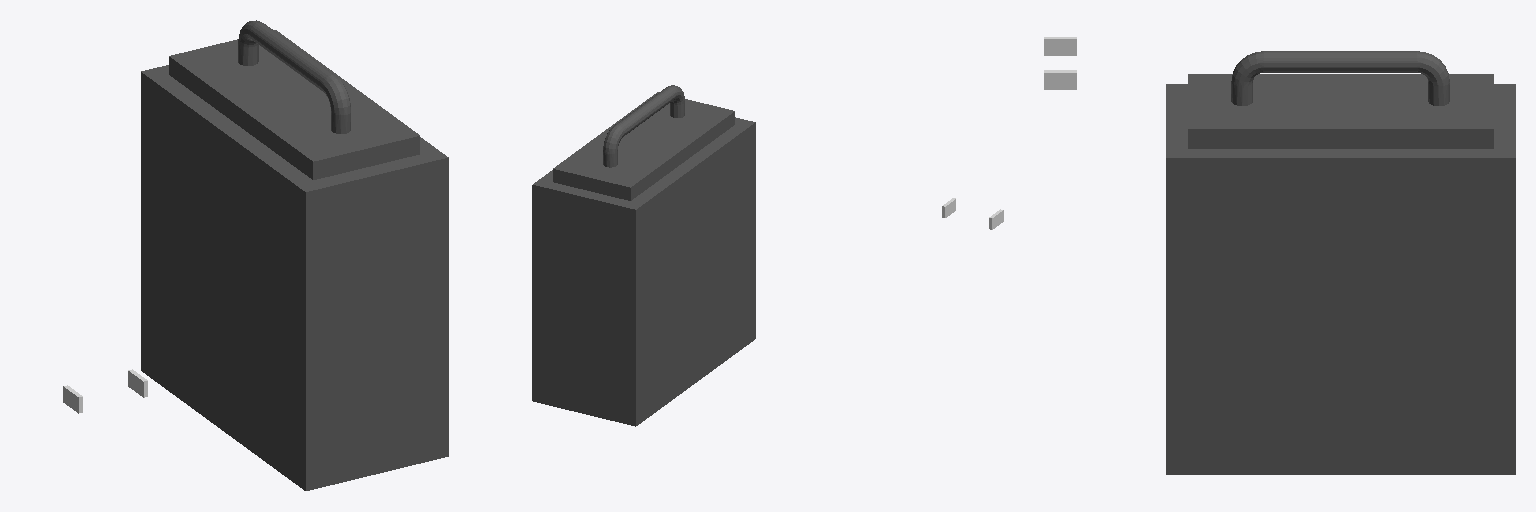
robot.urdf — ur3_robotiq85:
<?xml version="1.0" encoding="utf-8"?>
<robot 
  name="ur3_robotiq85">

  <!-- ==================== UR3 COBOT ==================== -->
  <link name="world" />
  <joint name="world_joint" type="fixed">
    <parent link="world" />
    <child link = "base_link" />
    <origin xyz="0.0 0.0 0.0" rpy="3.1415926536 3.1415926536 0.0" />
  </joint>
  
  <link
    name="base_link">
    <inertial>
      <origin
        xyz="3.8372E-05 -0.00080955 0.04622"
        rpy="0 0 0" />
      <mass
        value="0.61578" />
      <inertia
        ixx="0.00076129"
        ixy="2.9387E-07"
        ixz="3.4791E-07"
        iyy="0.00077457"
        iyz="-3.4742E-06"
        izz="0.0010029" />
    </inertial>
    <visual>
      <origin
        xyz="0 0 0"
        rpy="0 0 0" />
      <geometry>
        <mesh
          filename="meshes/base_link.STL" />
      </geometry>
      <material
        name="Grey">
        <color
          rgba="0.4 0.4 0.4 1.0"/>
		<texture
          filename="textures/0.png" />
      </material>
    </visual>
    <collision>
      <origin
        xyz="0 0 0"
        rpy="0 0 0" />
      <geometry>
        <mesh
          filename="meshes/base_link.STL" />
      </geometry>
    </collision>
  </link>
  <link
    name="shoulder_link">
    <inertial>
      <origin
        xyz="6.6134E-06 0.0072751 -0.01157"
        rpy="0 0 0" />
      <mass
        value="0.75496" />
      <inertia
        ixx="0.0010673"
        ixy="-1.7198E-07"
        ixz="1.2409E-07"
        iyy="0.00098991"
        iyz="-0.00013061"
        izz="0.00090487" />
    </inertial>
    <visual>
      <origin
        xyz="0 0 0"
        rpy="0 0 0" />
      <geometry>
        <mesh
          filename="meshes/shoulder_link.STL" />
      </geometry>
      <material
        name="Orange">
        <color
          rgba="1.0 0.423529411765 0.0392156862745 1.0" />
		<texture
          filename="textures/1.png" />
      </material>
    </visual>
    <collision>
      <origin
        xyz="0 0 0"
        rpy="0 0 0" />
      <geometry>
        <mesh
          filename="meshes/shoulder_link.STL" />
      </geometry>
    </collision>
  </link>
  <joint
    name="shoulder_pan_joint"
    type="revolute">
    <origin
      xyz="0 0 0.1519"
      rpy="0 0 0" />
    <parent
      link="base_link" />
    <child
      link="shoulder_link" />
    <axis
      xyz="0 0 1" />
    <limit
      lower="-3.14"
      upper="3.14"
      effort="150"
      velocity="1.57" />
  </joint>
  <link
    name="upper_arm_link">
    <inertial>
      <origin
        xyz="-2.7508E-06 -0.0032541 0.10568"
        rpy="0 0 0" />
      <mass
        value="1.8002" />
      <inertia
        ixx="0.0026472"
        ixy="-1.2054E-07"
        ixz="1.7542E-07"
        iyy="0.0025148"
        iyz="-8.0826E-05"
        izz="0.0016697" />
    </inertial>
    <visual>
      <origin
        xyz="0 0 0"
        rpy="0 0 0" />
      <geometry>
        <mesh
          filename="meshes/upper_arm_link.STL" />
      </geometry>
      <material
        name="Orange">
        <color
          rgba="1.0 0.423529411765 0.0392156862745 1.0" />
		<texture
          filename="textures/2.png" />
      </material>
    </visual>
    <collision>
      <origin
        xyz="0 0 0"
        rpy="0 0 0" />
      <geometry>
        <mesh
          filename="meshes/upper_arm_link.STL" />
      </geometry>
    </collision>
  </link>
  <joint
    name="shoulder_lift_join"
    type="revolute">
    <origin
      xyz="0 0.11985 0"
      rpy="0 1.5707963 0" />
    <parent
      link="shoulder_link" />
    <child
      link="upper_arm_link" />
    <axis
      xyz="0 1 0" />
    <limit
      lower="-3.14"
      upper="3.14"
      effort="150"
      velocity="1.57" />
  </joint>
  <link
    name="forearm_link">
    <inertial>
      <origin
        xyz="1.86130767464698E-06 0.0050504102156036 0.111203258131293"
        rpy="0 0 0" />
      <mass
        value="0.962327239849504" />
      <inertia
        ixx="0.0010727233594452"
        ixy="1.86933270066241E-09"
        ixz="-6.59035926251097E-10"
        iyy="0.00101484199720974"
        iyz="4.61391602068538E-05"
        izz="0.000542735149271365" />
    </inertial>
    <visual>
      <origin
        xyz="0 0 0"
        rpy="0 0 0" />
      <geometry>
        <mesh
          filename="meshes/forearm_link.STL" />
      </geometry>
      <material
        name="Orange">
        <color
          rgba="1.0 0.423529411765 0.0392156862745 1.0" />
		<texture
          filename="textures/3.png" />
      </material>
    </visual>
    <collision>
      <origin
        xyz="0 0 0"
        rpy="0 0 0" />
      <geometry>
        <mesh
          filename="meshes/forearm_link.STL" />
      </geometry>
    </collision>
  </link>
  <joint
    name="elbow_joint"
    type="revolute">
    <origin
      xyz="0 -0.093211 0.24365"
      rpy="0 0 0" />
    <parent
      link="upper_arm_link" />
    <child
      link="forearm_link" />
    <axis
      xyz="0 1 0" />
    <limit
      lower="-3.14"
      upper="3.14"
      effort="150"
      velocity="1.57" />
  </joint>
  <link
    name="wrist_1_link">
    <inertial>
      <origin
        xyz="-5.7002E-06 0.081177 -0.0007955"
        rpy="0 0 0" />
      <mass
        value="0.32531" />
      <inertia
        ixx="0.00022623"
        ixy="3.2028E-10"
        ixz="-9.1012E-10"
        iyy="0.0001946"
        iyz="-1.8337E-05"
        izz="0.00019911" />
    </inertial>
    <visual>
      <origin
        xyz="0 0 0"
        rpy="0 0 0" />
      <geometry>
        <mesh
          filename="meshes/wrist_1_link.STL" />
      </geometry>
      <material
        name="Orange">
        <color
          rgba="1.0 0.423529411765 0.0392156862745 1.0" />
		<texture
          filename="textures/4.png" />
      </material>
    </visual>
    <collision>
      <origin
        xyz="0 0 0"
        rpy="0 0 0" />
      <geometry>
        <mesh
          filename="meshes/wrist_1_link.STL" />
      </geometry>
    </collision>
  </link>
  <joint
    name="wrist_1_joint"
    type="revolute">
    <origin
      xyz="0 0 0.213"
      rpy="0 1.5707963 0" />
    <parent
      link="forearm_link" />
    <child
      link="wrist_1_link" />
    <axis
      xyz="0 1 0" />
    <limit
      lower="-3.14"
      upper="3.14"
      effort="28"
      velocity="3.14" />
  </joint>
  <link
    name="wrist_2_link">
    <inertial>
      <origin
        xyz="5.7002E-06 -0.0007955 0.081177"
        rpy="0 0 0" />
      <mass
        value="0.32531" />
      <inertia
        ixx="0.00022623"
        ixy="4.0289E-10"
        ixz="4.8635E-10"
        iyy="0.00019911"
        iyz="-1.8337E-05"
        izz="0.0001946" />
    </inertial>
    <visual>
      <origin
        xyz="0 0 0"
        rpy="0 0 0" />
      <geometry>
        <mesh
          filename="meshes/wrist_2_link.STL" />
      </geometry>
      <material
        name="Orange">
        <color
          rgba="1.0 0.423529411765 0.0392156862745 1.0" />
		<texture
          filename="textures/5.png" />
      </material>
    </visual>
    <collision>
      <origin
        xyz="0 0 0"
        rpy="0 0 0" />
      <geometry>
        <mesh
          filename="meshes/wrist_2_link.STL" />
      </geometry>
    </collision>
  </link>
  <joint
    name="wrist_2_joint"
    type="revolute">
    <origin
      xyz="0 0.0871 0"
      rpy="0 0 0" />
    <parent
      link="wrist_1_link" />
    <child
      link="wrist_2_link" />
    <axis
      xyz="0 0 1" />
    <limit
      lower="-3.14"
      upper="3.14"
      effort="28"
      velocity="3.14" />
  </joint>
  <link
    name="wrist_3_link">
    <inertial>
      <origin
        xyz="-9.3892E-05 0.061173 4.3066E-05"
        rpy="0 0 0" />
      <mass
        value="0.11536" />
      <inertia
        ixx="4.2644E-05"
        ixy="9.3825E-08"
        ixz="-8.0577E-08"
        iyy="5.9067E-05"
        iyz="-4.3032E-08"
        izz="4.2506E-05" />
    </inertial>
    <visual>
      <origin
        xyz="0 0 0"
        rpy="0 0 0" />
      <geometry>
        <mesh
          filename="meshes/wrist_3_link.STL" />
      </geometry>
      <material
        name="Red">
        <color
          rgba="0.8 0.0 0.0 1.0"/>
		<texture
          filename="textures/6.png" />
      </material>
    </visual>
    <collision>
      <origin
        xyz="0 0 0"
        rpy="0 0 0" />
      <geometry>
        <mesh
          filename="meshes/wrist_3_link.STL" />
      </geometry>
    </collision>
  </link>
  <joint
    name="wrist_3_joint"
    type="revolute">
    <origin
      xyz="0 0 0.0871"
      rpy="0 0 0" />
    <parent
      link="wrist_2_link" />
    <child
      link="wrist_3_link" />
    <axis
      xyz="0 1 0" />
    <limit
      lower="-3.14"
      upper="3.14"
      effort="28"
      velocity="3.14" />
  </joint>
  
  <!-- Frame coincident with all-zeros TCP on ROCR6 controller -->
  <link name="tool0"/>
  <joint name="wrist_3_link-tool0_fixed_joint" type="fixed">
    <origin rpy="-1.57079632679 0 0" xyz="0 0.04436 0"/>
    <parent link="wrist_3_link"/>
    <child link="tool0"/>
  </joint>
  
  <!-- ==================== GRIPPER ==================== -->
  <link name="robotiq_arg2f_base_link">
    <inertial>
      <origin rpy="0 0 0" xyz="8.625E-08 -4.6583E-06 0.03145"/>
      <mass value="0.22652"/>
      <inertia ixx="0.00020005" ixy="-4.2442E-10" ixz="-2.9069E-10" iyy="0.00017832" iyz="-3.4402E-08" izz="0.00013478"/>
    </inertial>
    <visual>
      <origin rpy="0 0 0" xyz="0 0 0"/>
      <geometry>
        <mesh filename="meshes/visual/robotiq_arg2f_85_base_link.dae" scale="0.001 0.001 0.001"/>
      </geometry>
      <material name="">
        <color rgba="0.1 0.1 0.1 1"/>
      </material>
    </visual>
    <collision>
      <origin rpy="0 0 0" xyz="0 0 0"/>
      <geometry>
        <mesh filename="meshes/collision/robotiq_arg2f_base_link.stl"/>
      </geometry>
    </collision>
  </link>
  <link name="left_outer_knuckle">
    <!--<inertial>
        <origin xyz="-0.000200000000003065 0.0199435877845359 0.0292245259211331" rpy="0 0 0" />
        <mass value="0.00853198276973456" />
        <inertia ixx="2.89328108496468E-06" ixy="-1.57935047237397E-19" ixz="-1.93980378593255E-19" iyy="1.86719750325683E-06" iyz="-1.21858577871576E-06" izz="1.21905238907251E-06" />
        </inertial> -->
    <visual>
      <origin rpy="0 0 0" xyz="0 0 0"/>
      <geometry>
        <mesh filename="meshes/visual/robotiq_arg2f_85_outer_knuckle.dae" scale="0.001 0.001 0.001"/>
      </geometry>
      <material name="">
        <color rgba="0.792156862745098 0.819607843137255 0.933333333333333 1"/>
      </material>
    </visual>
    <collision>
      <origin rpy="0 0 0" xyz="0 0 0"/>
      <geometry>
        <mesh filename="meshes/collision/robotiq_arg2f_85_outer_knuckle.dae" scale="0.001 0.001 0.001"/>
      </geometry>
    </collision>
  </link>
  <link name="left_outer_finger">
    <!--<inertial>
        <origin xyz="0.00030115855001899 0.0373907951953854 -0.0208027427000385" rpy="0 0 0" />
        <mass value="0.022614240507152" />
        <inertia ixx="1.52518312458174E-05" ixy="9.76583423954399E-10" ixz="-5.43838577022588E-10" iyy="6.17694243867776E-06" iyz="6.78636130740228E-06" izz="1.16494917907219E-05" />
        </inertial> -->
    <visual>
      <origin rpy="0 0 0" xyz="0 0 0"/>
      <geometry>
        <mesh filename="meshes/visual/robotiq_arg2f_85_outer_finger.dae" scale="0.001 0.001 0.001"/>
      </geometry>
      <material name="">
        <color rgba="0.1 0.1 0.1 1"/>
      </material>
    </visual>
    <collision>
      <origin rpy="0 0 0" xyz="0 0 0"/>
      <geometry>
        <mesh filename="meshes/collision/robotiq_arg2f_85_outer_finger.dae" scale="0.001 0.001 0.001"/>
      </geometry>
    </collision>
  </link>
  <link name="left_inner_finger">
    <!--<inertial>
        <origin xyz="0.000299999999999317 0.0160078233491243 -0.0136945669206257" rpy="0 0 0" />
        <mass value="0.0104003125914103" />
        <inertia ixx="2.71909453810972E-06" ixy="1.35402465472579E-21" ixz="-7.1817349065269E-22" iyy="7.69100314106116E-07" iyz="6.74715432769696E-07" izz="2.30315190420171E-06" />
        </inertial> -->
    <visual>
      <origin rpy="0 0 0" xyz="0 0 0"/>
      <geometry>
        <mesh filename="meshes/visual/robotiq_arg2f_85_inner_finger.dae" scale="0.001 0.001 0.001"/>
      </geometry>
      <material name="">
        <color rgba="0.1 0.1 0.1 1"/>
      </material>
    </visual>
    <collision>
      <origin rpy="0 0 0" xyz="0 0 0"/>
      <geometry>
        <mesh filename="meshes/collision/robotiq_arg2f_85_inner_finger.dae" scale="0.001 0.001 0.001"/>
      </geometry>
    </collision>
  </link>
  <link name="left_inner_finger_pad">
    <visual>
      <origin rpy="0 0 0" xyz="0 0 0"/>
      <geometry>
        <box size="0.022 0.00635 0.0375"/>
      </geometry>
      <material name="">
        <color rgba="0.9 0.9 0.9 1"/>
      </material>
    </visual>
    <collision>
      <origin rpy="0 0 0" xyz="0 0 0"/>
      <geometry>
        <box size="0.022 0.00635 0.0375"/>
      </geometry>
      <material name="">
        <color rgba="0.9 0.0 0.0 1"/>
      </material>
    </collision>
  </link>
  <link name="left_inner_knuckle">
    <!--<inertial>
        <origin xyz="0.000123011831763771 0.0507850843201817 0.00103968640075166" rpy="0 0 0" />
       <mass value="0.0271177346495152" />
        <inertia ixx="2.61910379223783E-05" ixy="-2.43616858946494E-07" ixz="-6.37789906117123E-09" iyy="2.8270243746167E-06" iyz="-5.37200748039765E-07" izz="2.83695868220296E-05" />
        </inertial> -->
    <visual>
      <origin rpy="0 0 0" xyz="0 0 0"/>
      <geometry>
        <mesh filename="meshes/visual/robotiq_arg2f_85_inner_knuckle.dae" scale="0.001 0.001 0.001"/>
      </geometry>
      <material name="">
        <color rgba="0.1 0.1 0.1 1"/>
      </material>
    </visual>
    <collision>
      <origin rpy="0 0 0" xyz="0 0 0"/>
      <geometry>
        <mesh filename="meshes/collision/robotiq_arg2f_85_inner_knuckle.dae" scale="0.001 0.001 0.001"/>
      </geometry>
    </collision>
  </link>
  <link name="right_outer_knuckle">
    <!--<inertial>
        <origin xyz="-0.000200000000003065 0.0199435877845359 0.0292245259211331" rpy="0 0 0" />
        <mass value="0.00853198276973456" />
        <inertia ixx="2.89328108496468E-06" ixy="-1.57935047237397E-19" ixz="-1.93980378593255E-19" iyy="1.86719750325683E-06" iyz="-1.21858577871576E-06" izz="1.21905238907251E-06" />
        </inertial> -->
    <visual>
      <origin rpy="0 0 0" xyz="0 0 0"/>
      <geometry>
        <mesh filename="meshes/visual/robotiq_arg2f_85_outer_knuckle.dae" scale="0.001 0.001 0.001"/>
      </geometry>
      <material name="">
        <color rgba="0.792156862745098 0.819607843137255 0.933333333333333 1"/>
      </material>
    </visual>
    <collision>
      <origin rpy="0 0 0" xyz="0 0 0"/>
      <geometry>
        <mesh filename="meshes/collision/robotiq_arg2f_85_outer_knuckle.dae" scale="0.001 0.001 0.001"/>
      </geometry>
    </collision>
  </link>
  <link name="right_outer_finger">
    <!--<inertial>
        <origin xyz="0.00030115855001899 0.0373907951953854 -0.0208027427000385" rpy="0 0 0" />
        <mass value="0.022614240507152" />
        <inertia ixx="1.52518312458174E-05" ixy="9.76583423954399E-10" ixz="-5.43838577022588E-10" iyy="6.17694243867776E-06" iyz="6.78636130740228E-06" izz="1.16494917907219E-05" />
        </inertial> -->
    <visual>
      <origin rpy="0 0 0" xyz="0 0 0"/>
      <geometry>
        <mesh filename="meshes/visual/robotiq_arg2f_85_outer_finger.dae" scale="0.001 0.001 0.001"/>
      </geometry>
      <material name="">
        <color rgba="0.1 0.1 0.1 1"/>
      </material>
    </visual>
    <collision>
      <origin rpy="0 0 0" xyz="0 0 0"/>
      <geometry>
        <mesh filename="meshes/collision/robotiq_arg2f_85_outer_finger.dae" scale="0.001 0.001 0.001"/>
      </geometry>
    </collision>
  </link>
  <link name="right_inner_finger">
    <!--<inertial>
        <origin xyz="0.000299999999999317 0.0160078233491243 -0.0136945669206257" rpy="0 0 0" />
        <mass value="0.0104003125914103" />
        <inertia ixx="2.71909453810972E-06" ixy="1.35402465472579E-21" ixz="-7.1817349065269E-22" iyy="7.69100314106116E-07" iyz="6.74715432769696E-07" izz="2.30315190420171E-06" />
        </inertial> -->
    <visual>
      <origin rpy="0 0 0" xyz="0 0 0"/>
      <geometry>
        <mesh filename="meshes/visual/robotiq_arg2f_85_inner_finger.dae" scale="0.001 0.001 0.001"/>
      </geometry>
      <material name="">
        <color rgba="0.1 0.1 0.1 1"/>
      </material>
    </visual>
    <collision>
      <origin rpy="0 0 0" xyz="0 0 0"/>
      <geometry>
        <mesh filename="meshes/collision/robotiq_arg2f_85_inner_finger.dae" scale="0.001 0.001 0.001"/>
      </geometry>
    </collision>
  </link>
  <link name="right_inner_finger_pad">
    <visual>
      <origin rpy="0 0 0" xyz="0 0 0"/>
      <geometry>
        <box size="0.022 0.00635 0.0375"/>
      </geometry>
      <material name="">
        <color rgba="0.9 0.9 0.9 1"/>
      </material>
    </visual>
    <collision>
      <origin rpy="0 0 0" xyz="0 0 0"/>
      <geometry>
        <box size="0.022 0.00635 0.0375"/>
      </geometry>
      <material name="">
        <color rgba="0.9 0.0 0.0 1"/>
      </material>
    </collision>
  </link>
  <link name="right_inner_knuckle">
    <!--<inertial>
        <origin xyz="0.000123011831763771 0.0507850843201817 0.00103968640075166" rpy="0 0 0" />
       <mass value="0.0271177346495152" />
        <inertia ixx="2.61910379223783E-05" ixy="-2.43616858946494E-07" ixz="-6.37789906117123E-09" iyy="2.8270243746167E-06" iyz="-5.37200748039765E-07" izz="2.83695868220296E-05" />
        </inertial> -->
    <visual>
      <origin rpy="0 0 0" xyz="0 0 0"/>
      <geometry>
        <mesh filename="meshes/visual/robotiq_arg2f_85_inner_knuckle.dae" scale="0.001 0.001 0.001"/>
      </geometry>
      <material name="">
        <color rgba="0.1 0.1 0.1 1"/>
      </material>
    </visual>
    <collision>
      <origin rpy="0 0 0" xyz="0 0 0"/>
      <geometry>
        <mesh filename="meshes/collision/robotiq_arg2f_85_inner_knuckle.dae" scale="0.001 0.001 0.001"/>
      </geometry>
    </collision>
  </link>
  <joint name="finger_joint" type="revolute">
    <origin rpy="0 0 3.141592653589793" xyz="0 -0.0306011 0.054904"/>
    <parent link="robotiq_arg2f_base_link"/>
    <child link="left_outer_knuckle"/>
    <axis xyz="1 0 0"/>
    <limit effort="1000" lower="0" upper="0.8" velocity="2.0"/>
  </joint>
  <joint name="left_outer_finger_joint" type="fixed">
    <origin rpy="0 0 0" xyz="0 0.0315 -0.0041"/>
    <parent link="left_outer_knuckle"/>
    <child link="left_outer_finger"/>
    <axis xyz="1 0 0"/>
  </joint>
  <joint name="left_inner_knuckle_joint" type="revolute">
    <!-- <origin xyz="0 ${reflect * -0.0127} 0.06142" rpy="${pi / 2 + .725} 0 ${(reflect - 1) * pi / 2}" /> -->
    <origin rpy="0 0 3.141592653589793" xyz="0 -0.0127 0.06142"/>
    <parent link="robotiq_arg2f_base_link"/>
    <child link="left_inner_knuckle"/>
    <axis xyz="1 0 0"/>
    <limit effort="1000" lower="0" upper="0.8757" velocity="2.0"/>
    <mimic joint="finger_joint" multiplier="1" offset="0"/>
  </joint>
  <joint name="left_inner_finger_joint" type="revolute">
    <origin rpy="0 0 0" xyz="0 0.0061 0.0471"/>
    <parent link="left_outer_finger"/>
    <child link="left_inner_finger"/>
    <axis xyz="1 0 0"/>
    <limit effort="1000" lower="0" upper="0.8757" velocity="2.0"/>
    <mimic joint="finger_joint" multiplier="-1" offset="0"/>
  </joint>
  <joint name="left_inner_finger_pad_joint" type="fixed">
    <origin rpy="0 0 0" xyz="0 -0.0220203446692936 0.03242"/>
    <parent link="left_inner_finger"/>
    <child link="left_inner_finger_pad"/>
    <axis xyz="0 0 1"/>
  </joint>
  <joint name="right_outer_knuckle_joint" type="revolute">
    <origin rpy="0 0 0" xyz="0 0.0306011 0.054904"/>
    <parent link="robotiq_arg2f_base_link"/>
    <child link="right_outer_knuckle"/>
    <axis xyz="1 0 0"/>
    <limit effort="1000" lower="0" upper="0.81" velocity="2.0"/>
    <mimic joint="finger_joint" multiplier="1" offset="0"/>
  </joint>
  <joint name="right_outer_finger_joint" type="fixed">
    <origin rpy="0 0 0" xyz="0 0.0315 -0.0041"/>
    <parent link="right_outer_knuckle"/>
    <child link="right_outer_finger"/>
    <axis xyz="1 0 0"/>
  </joint>
  <joint name="right_inner_knuckle_joint" type="revolute">
    <!-- <origin xyz="0 ${reflect * -0.0127} 0.06142" rpy="${pi / 2 + .725} 0 ${(reflect - 1) * pi / 2}" /> -->
    <origin rpy="0 0 0.0" xyz="0 0.0127 0.06142"/>
    <parent link="robotiq_arg2f_base_link"/>
    <child link="right_inner_knuckle"/>
    <axis xyz="1 0 0"/>
    <limit effort="1000" lower="0" upper="0.8757" velocity="2.0"/>
    <mimic joint="finger_joint" multiplier="1" offset="0"/>
  </joint>
  <joint name="right_inner_finger_joint" type="revolute">
    <origin rpy="0 0 0" xyz="0 0.0061 0.0471"/>
    <parent link="right_outer_finger"/>
    <child link="right_inner_finger"/>
    <axis xyz="1 0 0"/>
    <limit effort="1000" lower="0" upper="0.8757" velocity="2.0"/>
    <mimic joint="finger_joint" multiplier="-1" offset="0"/>
  </joint>
  <joint name="right_inner_finger_pad_joint" type="fixed">
    <origin rpy="0 0 0" xyz="0 -0.0220203446692936 0.03242"/>
    <parent link="right_inner_finger"/>
    <child link="right_inner_finger_pad"/>
    <axis xyz="0 0 1"/>
  </joint>
  <transmission name="finger_joint_trans">
    <type>transmission_interface/SimpleTransmission</type>
    <joint name="finger_joint">
      <hardwareInterface>PositionJointInterface</hardwareInterface>
    </joint>
    <actuator name="finger_joint_motor">
      <mechanicalReduction>1</mechanicalReduction>
    </actuator>
  </transmission>
  
  <!-- ==================== CONNECTION JOINT ==================== -->
  <joint name="manipulator_gripper_joint" type="fixed">
    <parent link="wrist_3_link"/>
    <child link="robotiq_arg2f_base_link"/>
    <origin xyz="0.0 0.08136 0.0" rpy="0.0 1.57079632679 1.57079632679"/>
  </joint>
  
</robot>

--- Facts derived from the render (not from the file) ---
The picture shows the robot from 3 angles, left to right: view 1: azimuth 30°, elevation 25°; view 2: azimuth 150°, elevation 25°; view 3: azimuth 270°, elevation 25°; orthographic projection.
Model ur3_robotiq85 with 20 links and 19 joints (12 revolute, 7 fixed), rooted at world, posed every joint at zero.
Visible links, largest first — view 1: base_link; view 2: base_link; view 3: base_link, left_inner_finger_pad, right_inner_finger_pad.
Boxes of the visible links, x1,y1,x2,y2 form: base_link: (141,20,448,490); base_link: (532,85,755,426); base_link: (1166,51,1515,474); left_inner_finger_pad: (1044,70,1076,89); right_inner_finger_pad: (1044,37,1076,55).
Bounding box of the posed robot: 0.6076 × 0.5474 × 0.4953 m (x, y, z).
Meshes: 12 distinct files referenced, 1 mesh visuals loaded (1 binary STL); not drawn: 15 (reference not matched to a file when rendering).